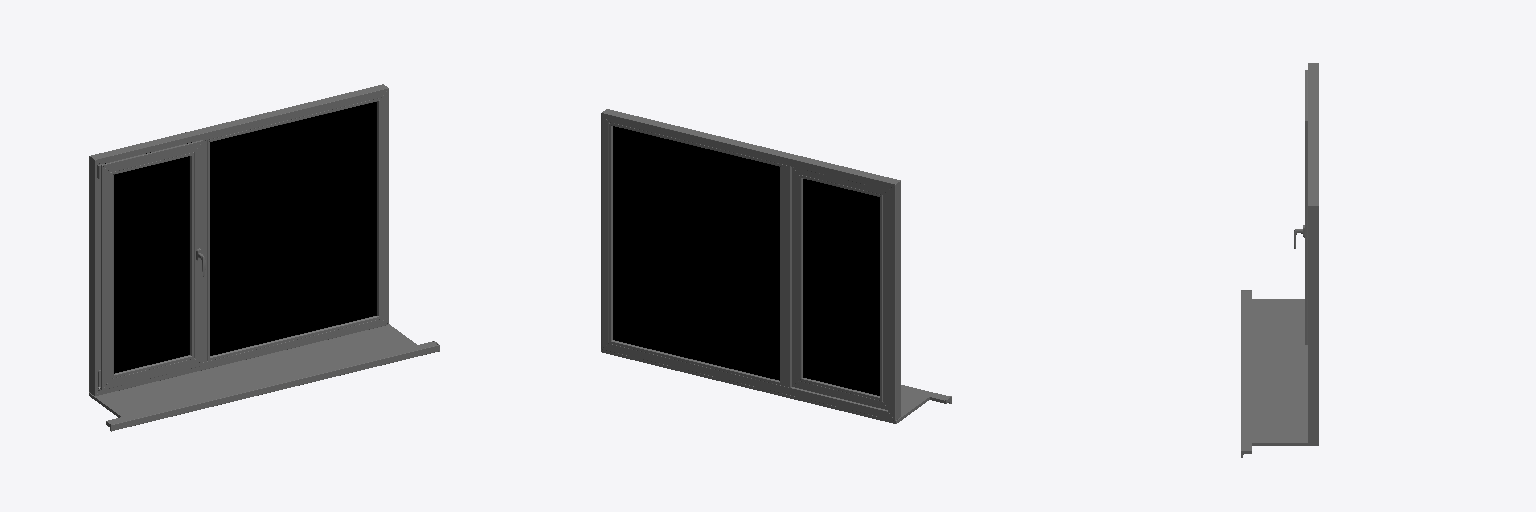
The model's file is window.obj.
The picture shows the model from 3 angles: view 1: azimuth 30°, elevation 25°; view 2: azimuth 150°, elevation 25°; view 3: azimuth 270°, elevation 25°; orthographic projection.
Parts seen in each view (by area): view 1: Window_01; view 2: Window_01; view 3: Window_01.
Part boxes in pixels (x1,y1,x2,y2): Window_01: (89,84,439,431); Window_01: (601,109,951,423); Window_01: (1241,63,1318,457).
Bounding box in the file's own units: 2.04 × 1.45 × 0.422.